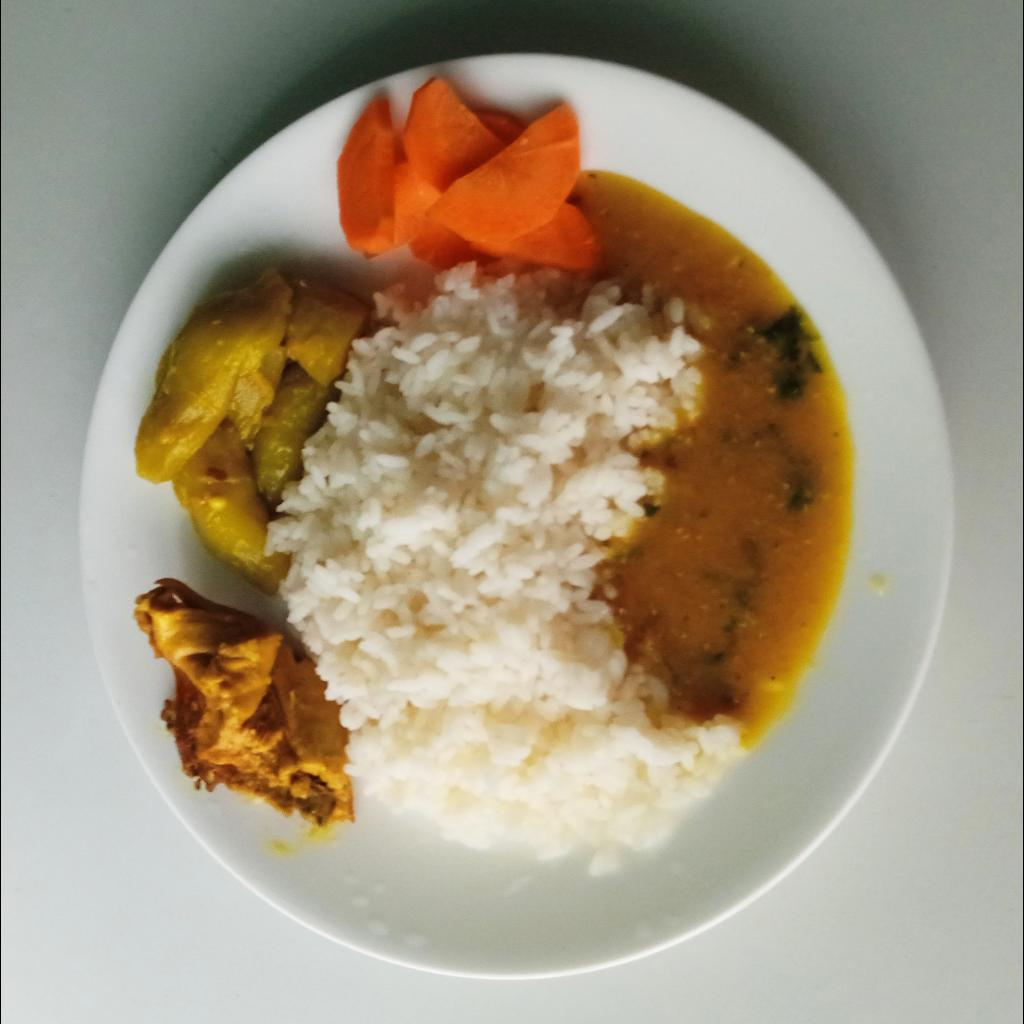carrot: (336, 73, 597, 276)
chicken: (133, 577, 355, 831)
daal: (572, 167, 853, 748)
potol: (133, 265, 369, 585)
rice: (257, 261, 749, 876)
